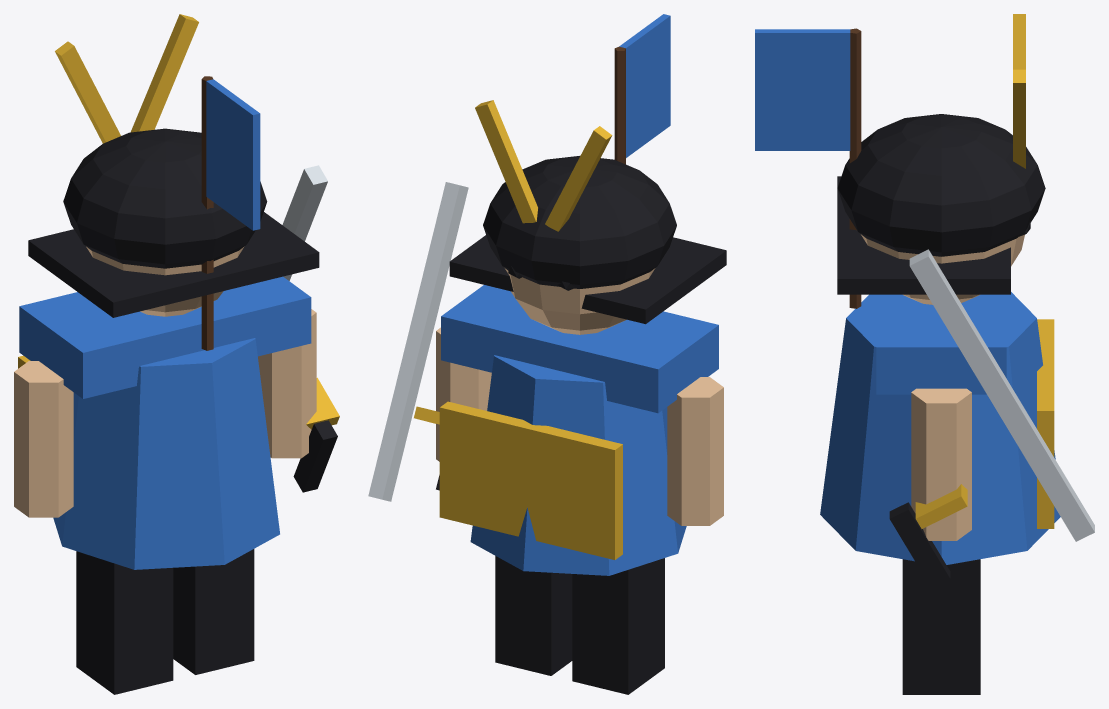
Rendered from samurai.glb.
3 renders of one model, left to right at view 1: azimuth 30°, elevation 25°; view 2: azimuth 150°, elevation 25°; view 3: azimuth 270°, elevation 25°, orthographic. The views are drawn at different scales.
Visible parts, largest first — view 1: Cone, Sphere.001, Cube.002, Cube, Cube.004, Cylinder, Cube.001, Cube.010, Cylinder.001, Cube.006, Cube.005, Cube.007 (+4 smaller); view 2: Cube.003, Cone, Cube.002, Sphere.001, Cube, Cube.007, Cube.001, Cylinder, Cube.004, Cube.010, Sphere, Cube.006 (+3 smaller); view 3: Cone, Sphere.001, Cube.010, Cube.001, Cube.002, Cube.007, Cylinder.001, Cube.004, Cube.003, Cube.009, Cylinder.002, Sphere (+3 smaller).
Boxes of the visible parts, x1=… form: Cone: x1=53, y1=338, x2=279, y2=569; Sphere.001: x1=63, y1=128, x2=267, y2=268; Cube.002: x1=19, y1=276, x2=311, y2=398; Cube: x1=76, y1=551, x2=173, y2=694; Cube.004: x1=28, y1=212, x2=319, y2=317; Cylinder: x1=14, y1=361, x2=73, y2=517; Cube.001: x1=173, y1=549, x2=254, y2=674; Cube.010: x1=206, y1=79, x2=260, y2=230; Cylinder.001: x1=258, y1=309, x2=316, y2=458; Cube.006: x1=130, y1=14, x2=198, y2=132; Cube.005: x1=55, y1=41, x2=120, y2=143; Cube.007: x1=282, y1=165, x2=327, y2=280; Cube.003: x1=439, y1=401, x2=622, y2=559; Cone: x1=470, y1=355, x2=686, y2=575; Cube.002: x1=441, y1=285, x2=718, y2=413; Sphere.001: x1=483, y1=156, x2=676, y2=288; Cube: x1=572, y1=558, x2=664, y2=694; Cube.007: x1=368, y1=182, x2=468, y2=501; Cube.001: x1=495, y1=556, x2=572, y2=675; Cylinder: x1=667, y1=377, x2=723, y2=525; Cube.004: x1=449, y1=235, x2=726, y2=324; Cube.010: x1=619, y1=14, x2=670, y2=157; Sphere: x1=505, y1=268, x2=655, y2=334; Cube.006: x1=475, y1=100, x2=537, y2=223; Cone: x1=820, y1=292, x2=1060, y2=564; Sphere.001: x1=837, y1=114, x2=1045, y2=256; Cube.010: x1=755, y1=29, x2=850, y2=150; Cube.001: x1=902, y1=559, x2=980, y2=694; Cube.002: x1=876, y1=294, x2=1006, y2=394; Cube.007: x1=909, y1=249, x2=1094, y2=541; Cylinder.001: x1=911, y1=388, x2=971, y2=540; Cube.004: x1=837, y1=176, x2=1010, y2=294; Cube.003: x1=1037, y1=319, x2=1054, y2=528; Cube.009: x1=889, y1=502, x2=950, y2=587; Cylinder.002: x1=849, y1=28, x2=861, y2=308; Sphere: x1=861, y1=234, x2=1024, y2=304.
Size of the model in its own units: 0.8306 by 1.6 by 0.7837.
